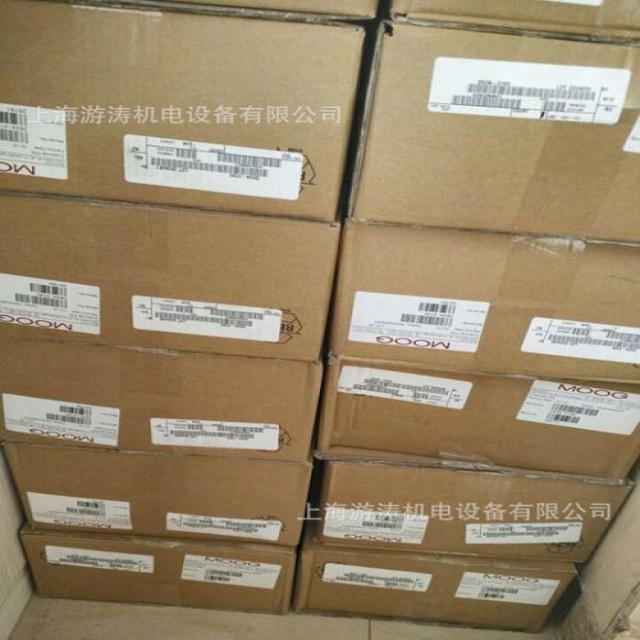box: (0, 1, 367, 224), (344, 21, 639, 241), (0, 196, 339, 363), (325, 219, 639, 384), (0, 338, 322, 460), (311, 363, 639, 482), (311, 461, 634, 562), (290, 521, 575, 633), (16, 527, 296, 613), (383, 2, 639, 41), (58, 1, 384, 22)
